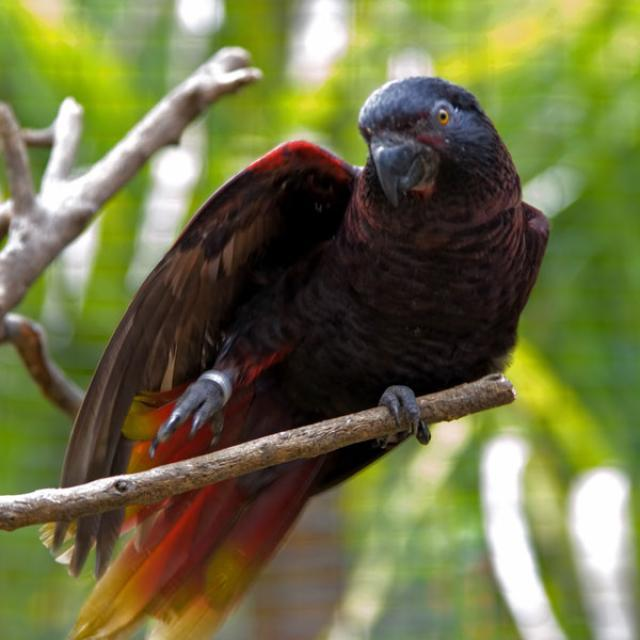Nuri Hitam: (36, 38, 575, 640)
